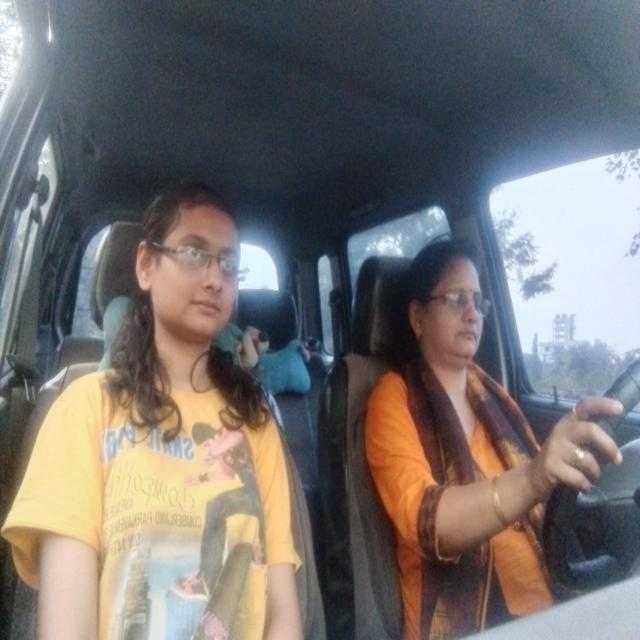drowsy: (392, 217, 522, 399)
person: (123, 168, 257, 394)
